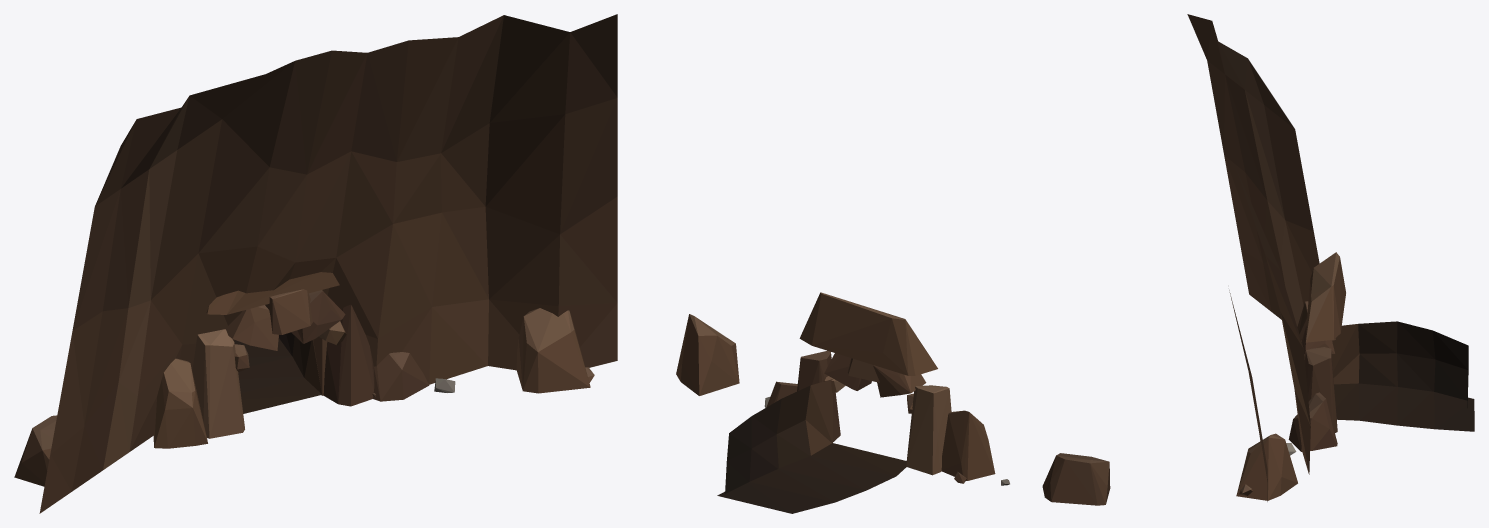
File: tl_cave_main_wall_01_v01.glb
The picture shows the model from 3 angles, left to right: view 1: azimuth 30°, elevation 25°; view 2: azimuth 150°, elevation 25°; view 3: azimuth 270°, elevation 25°; orthographic projection. The views are drawn at different scales.
Parts seen in each view (by area): view 1: tl_cave_main_wall_01_v01; view 2: tl_cave_main_wall_01_v01; view 3: tl_cave_main_wall_01_v01.
Part boxes in pixels (<box>): tl_cave_main_wall_01_v01: <box>14,14,617,513</box>; tl_cave_main_wall_01_v01: <box>676,292,1110,513</box>; tl_cave_main_wall_01_v01: <box>1187,14,1474,501</box>.
Size of the model in its own units: 23.5 by 15.05 by 13.
